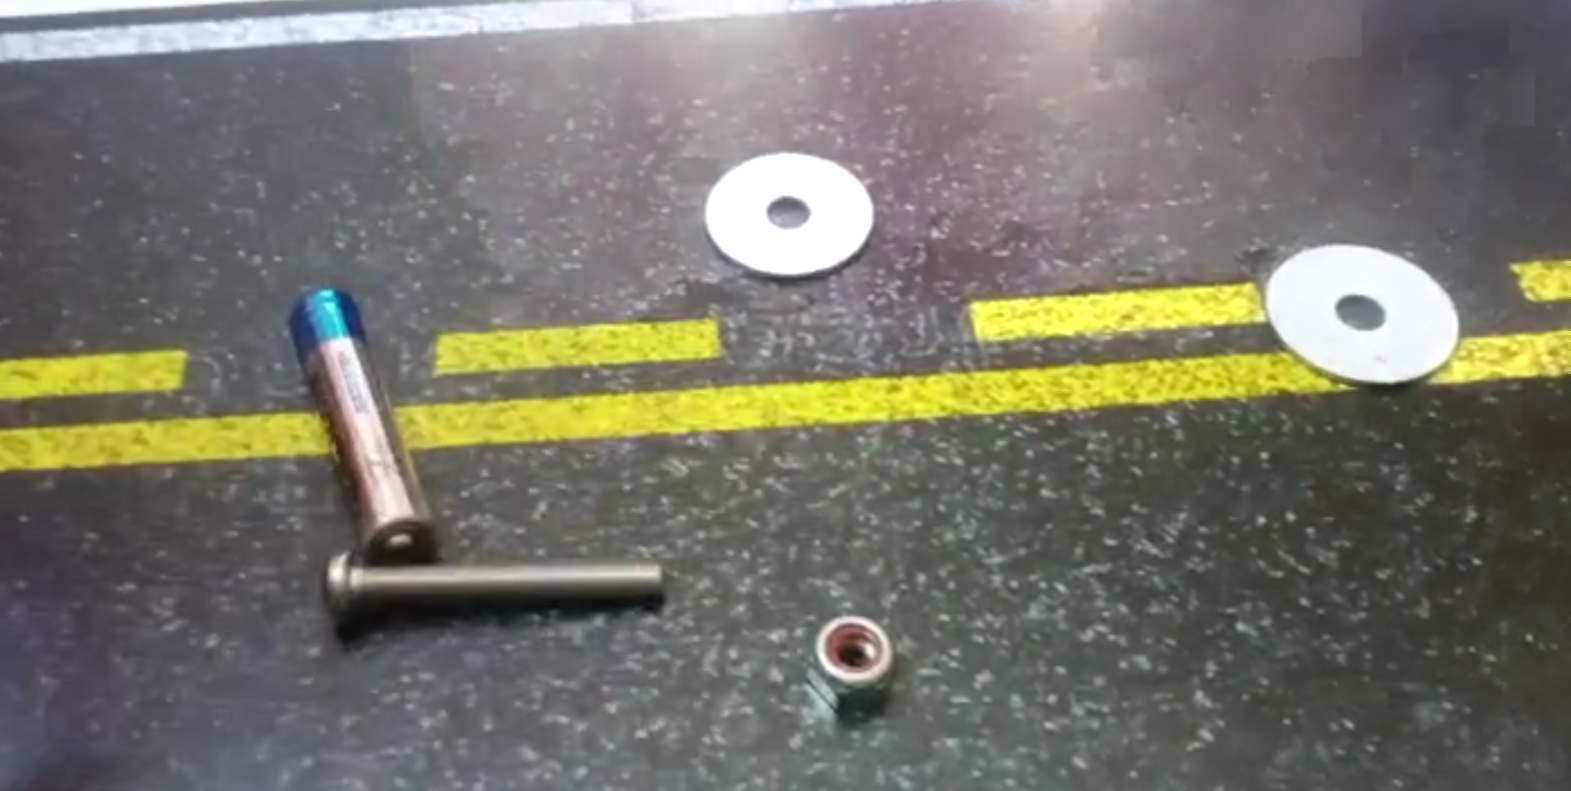metal: (263, 274, 458, 548), (1263, 233, 1471, 400), (311, 550, 677, 628), (694, 145, 881, 284), (796, 610, 910, 714)
